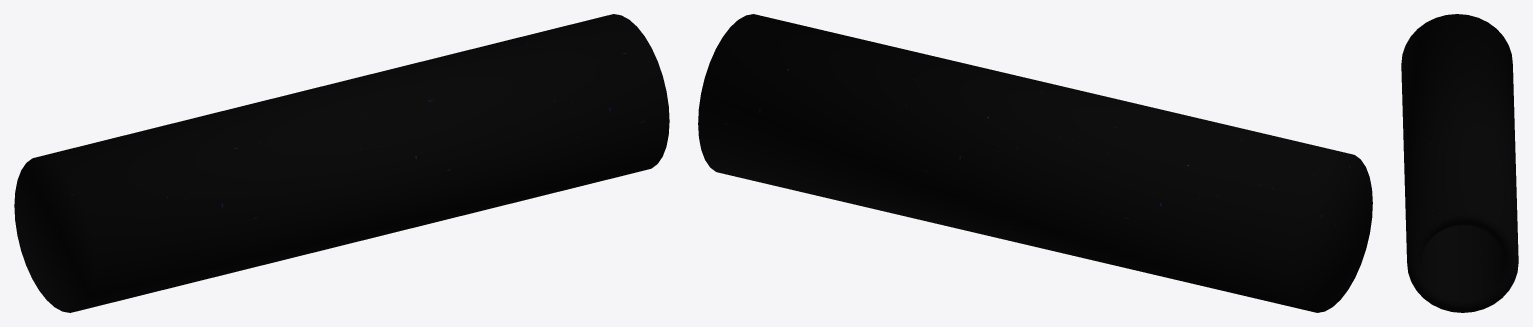
The model's file is tanktower-weapon.fbx.
3 views of the same model, side by side, from view 1: azimuth 30°, elevation 25°; view 2: azimuth 150°, elevation 25°; view 3: azimuth 270°, elevation 25° (orthographic). The views are drawn at different scales.
Visible parts, largest first — view 1: Cylinder; view 2: Cylinder; view 3: Cylinder.
Part boxes in pixels (x1=…): Cylinder: x1=14, y1=14, x2=669, y2=312; Cylinder: x1=698, y1=14, x2=1372, y2=312; Cylinder: x1=1401, y1=14, x2=1518, y2=312.
Bounding box in the file's own units: 2.42 × 0.5851 × 0.6087.
